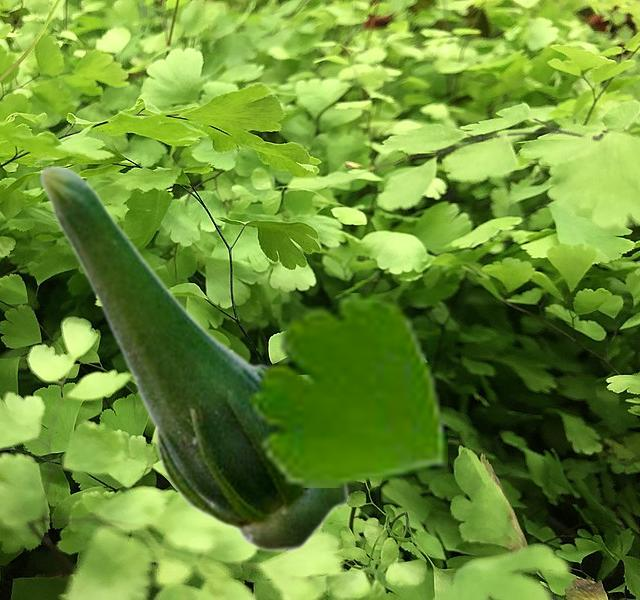okra: (38, 164, 349, 552)
